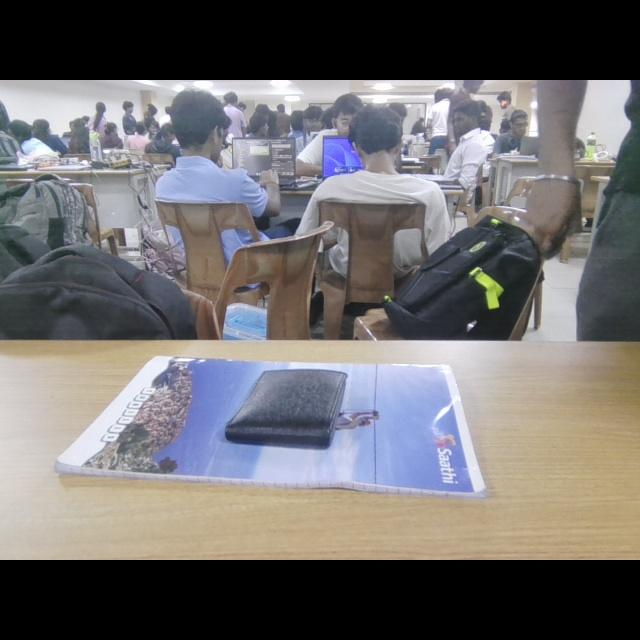wallet: (224, 360, 358, 460)
